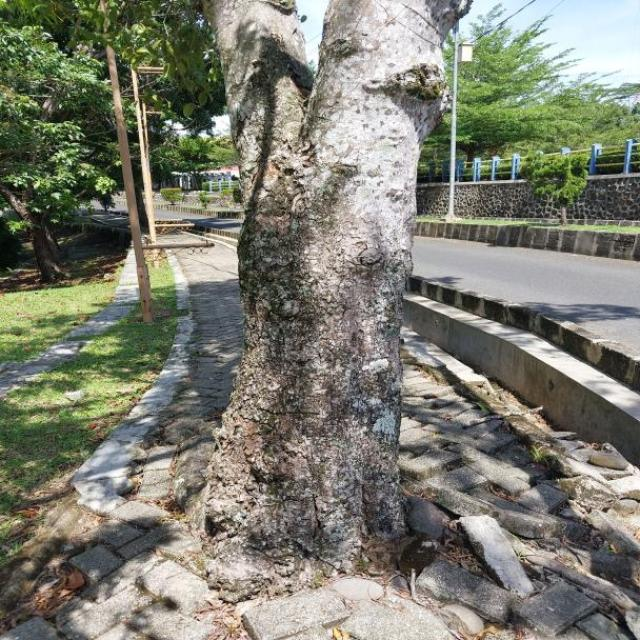tree ahead at: (181, 0, 467, 573)
